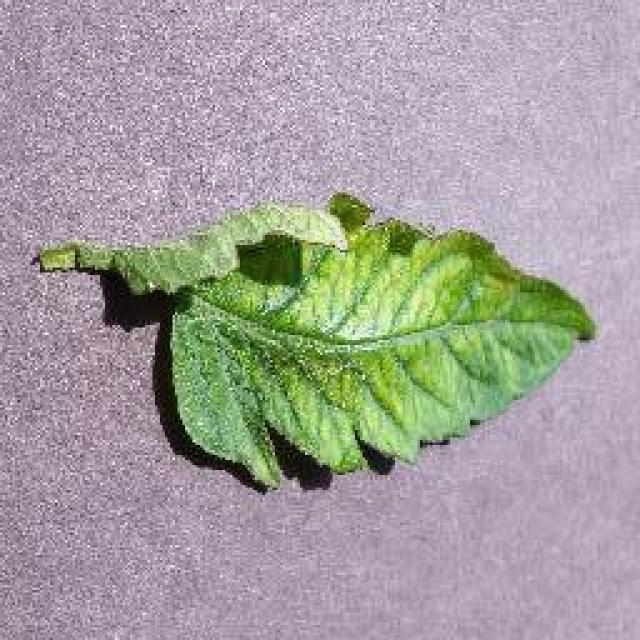Tomato spider mites leaf: (96, 194, 596, 496)
